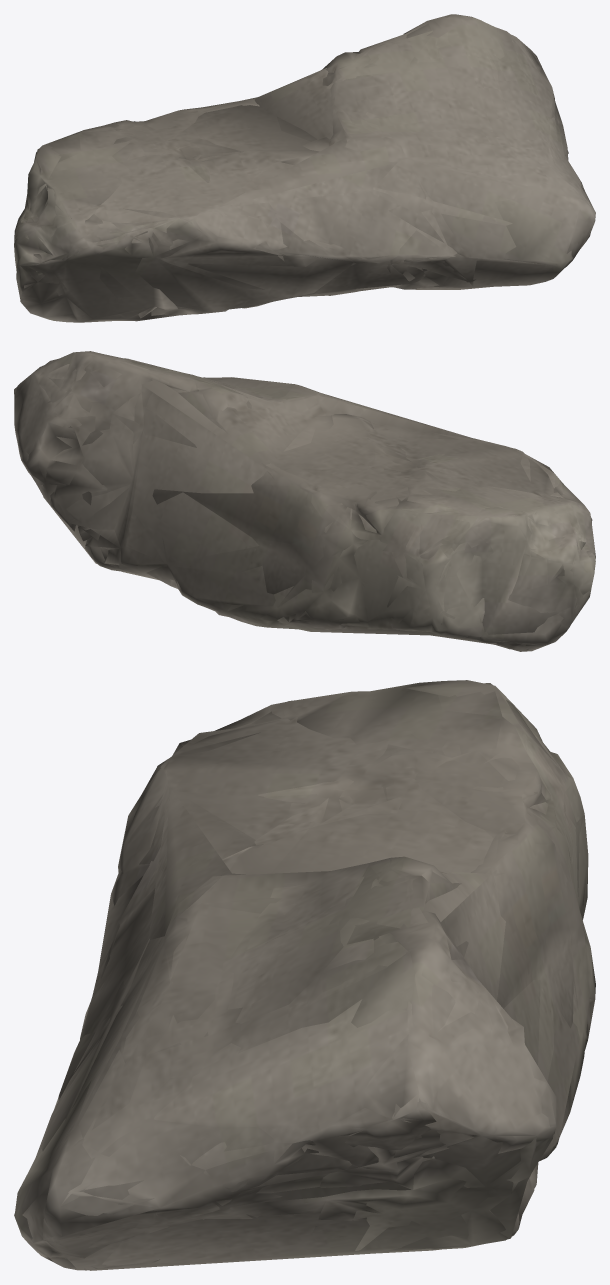
The model's file is moon_rock_01.glb.
The picture shows the model from 3 angles, top to bottom: view 1: azimuth 30°, elevation 25°; view 2: azimuth 150°, elevation 25°; view 3: azimuth 270°, elevation 25°; orthographic projection. The views are drawn at different scales.
Parts seen in each view (by area): view 1: moon_rock_01_LOD0; view 2: moon_rock_01_LOD0; view 3: moon_rock_01_LOD0.
Part boxes in pixels (bbox=[...]): moon_rock_01_LOD0: bbox=[14, 14, 595, 322]; moon_rock_01_LOD0: bbox=[14, 351, 595, 651]; moon_rock_01_LOD0: bbox=[14, 680, 595, 1270].
Size of the model in its own units: 0.2123 by 0.0751 by 0.1114.
1 material, 1 textured.
